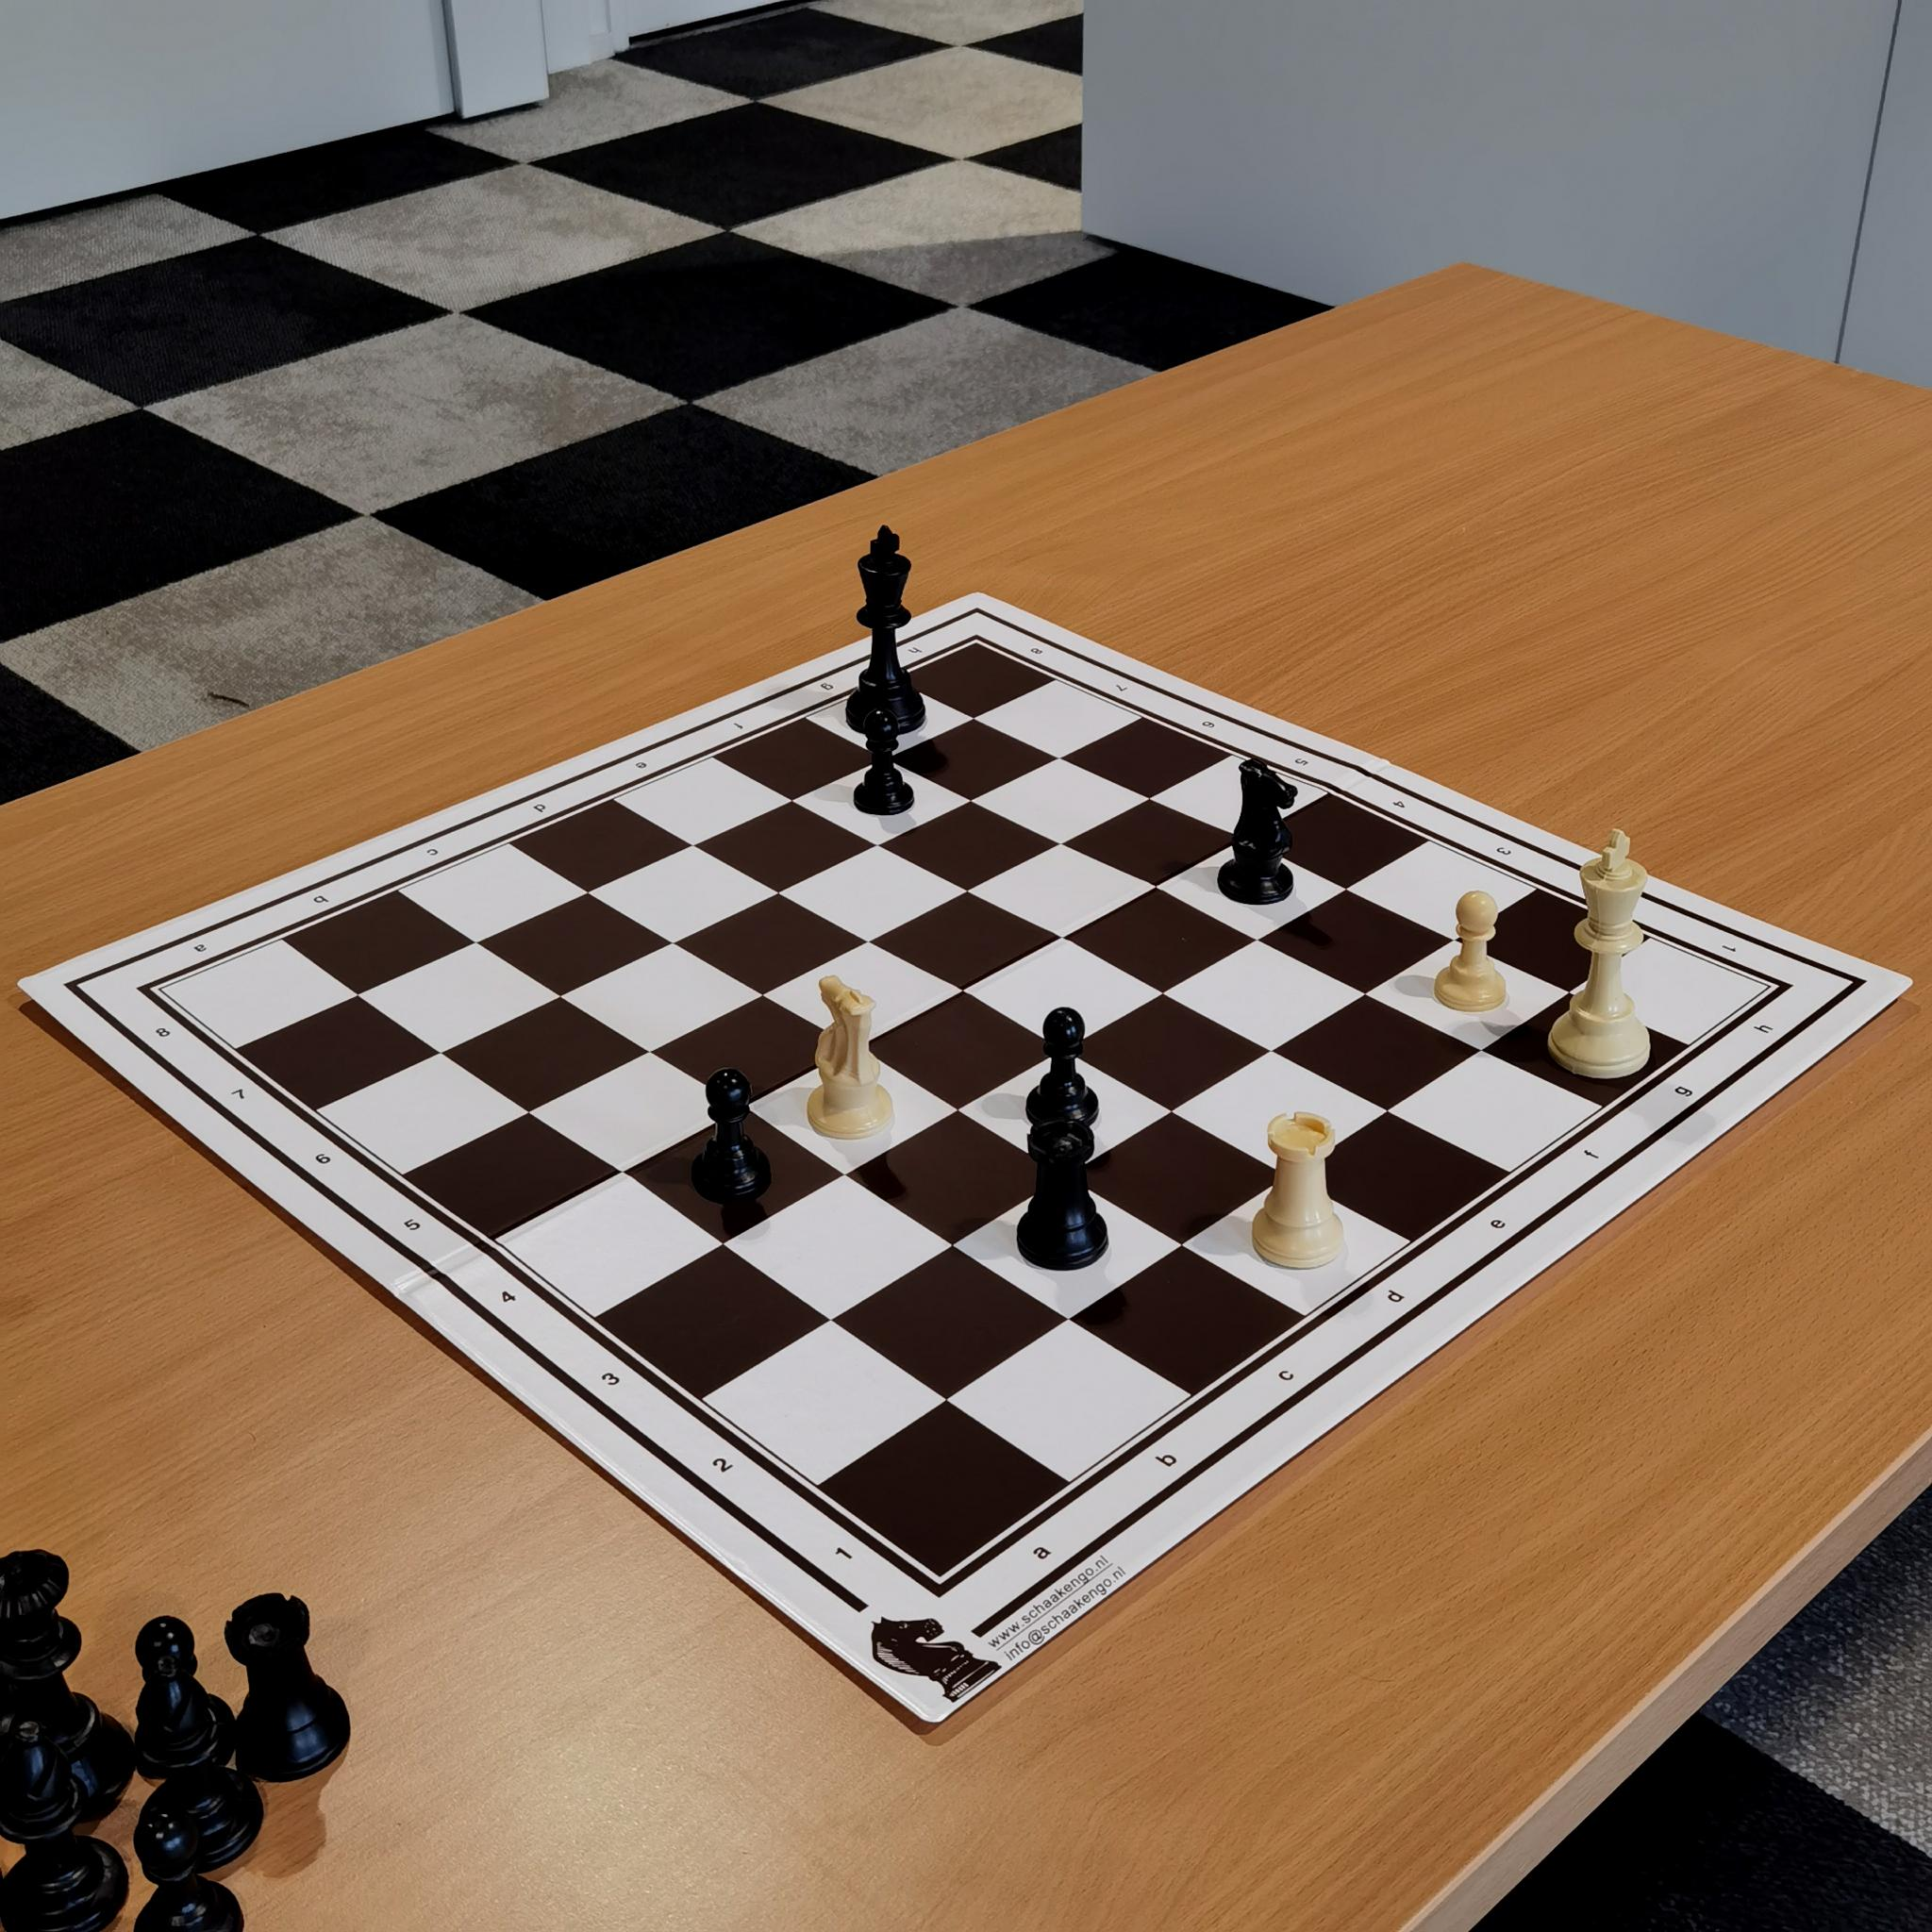corners: (913, 1560, 977, 1619), (1734, 966, 1796, 1010), (133, 970, 196, 1012), (959, 632, 994, 660)
eight: (138, 1016, 189, 1054), (1019, 630, 1056, 667)
one: (821, 1536, 872, 1585), (1702, 929, 1746, 971)
